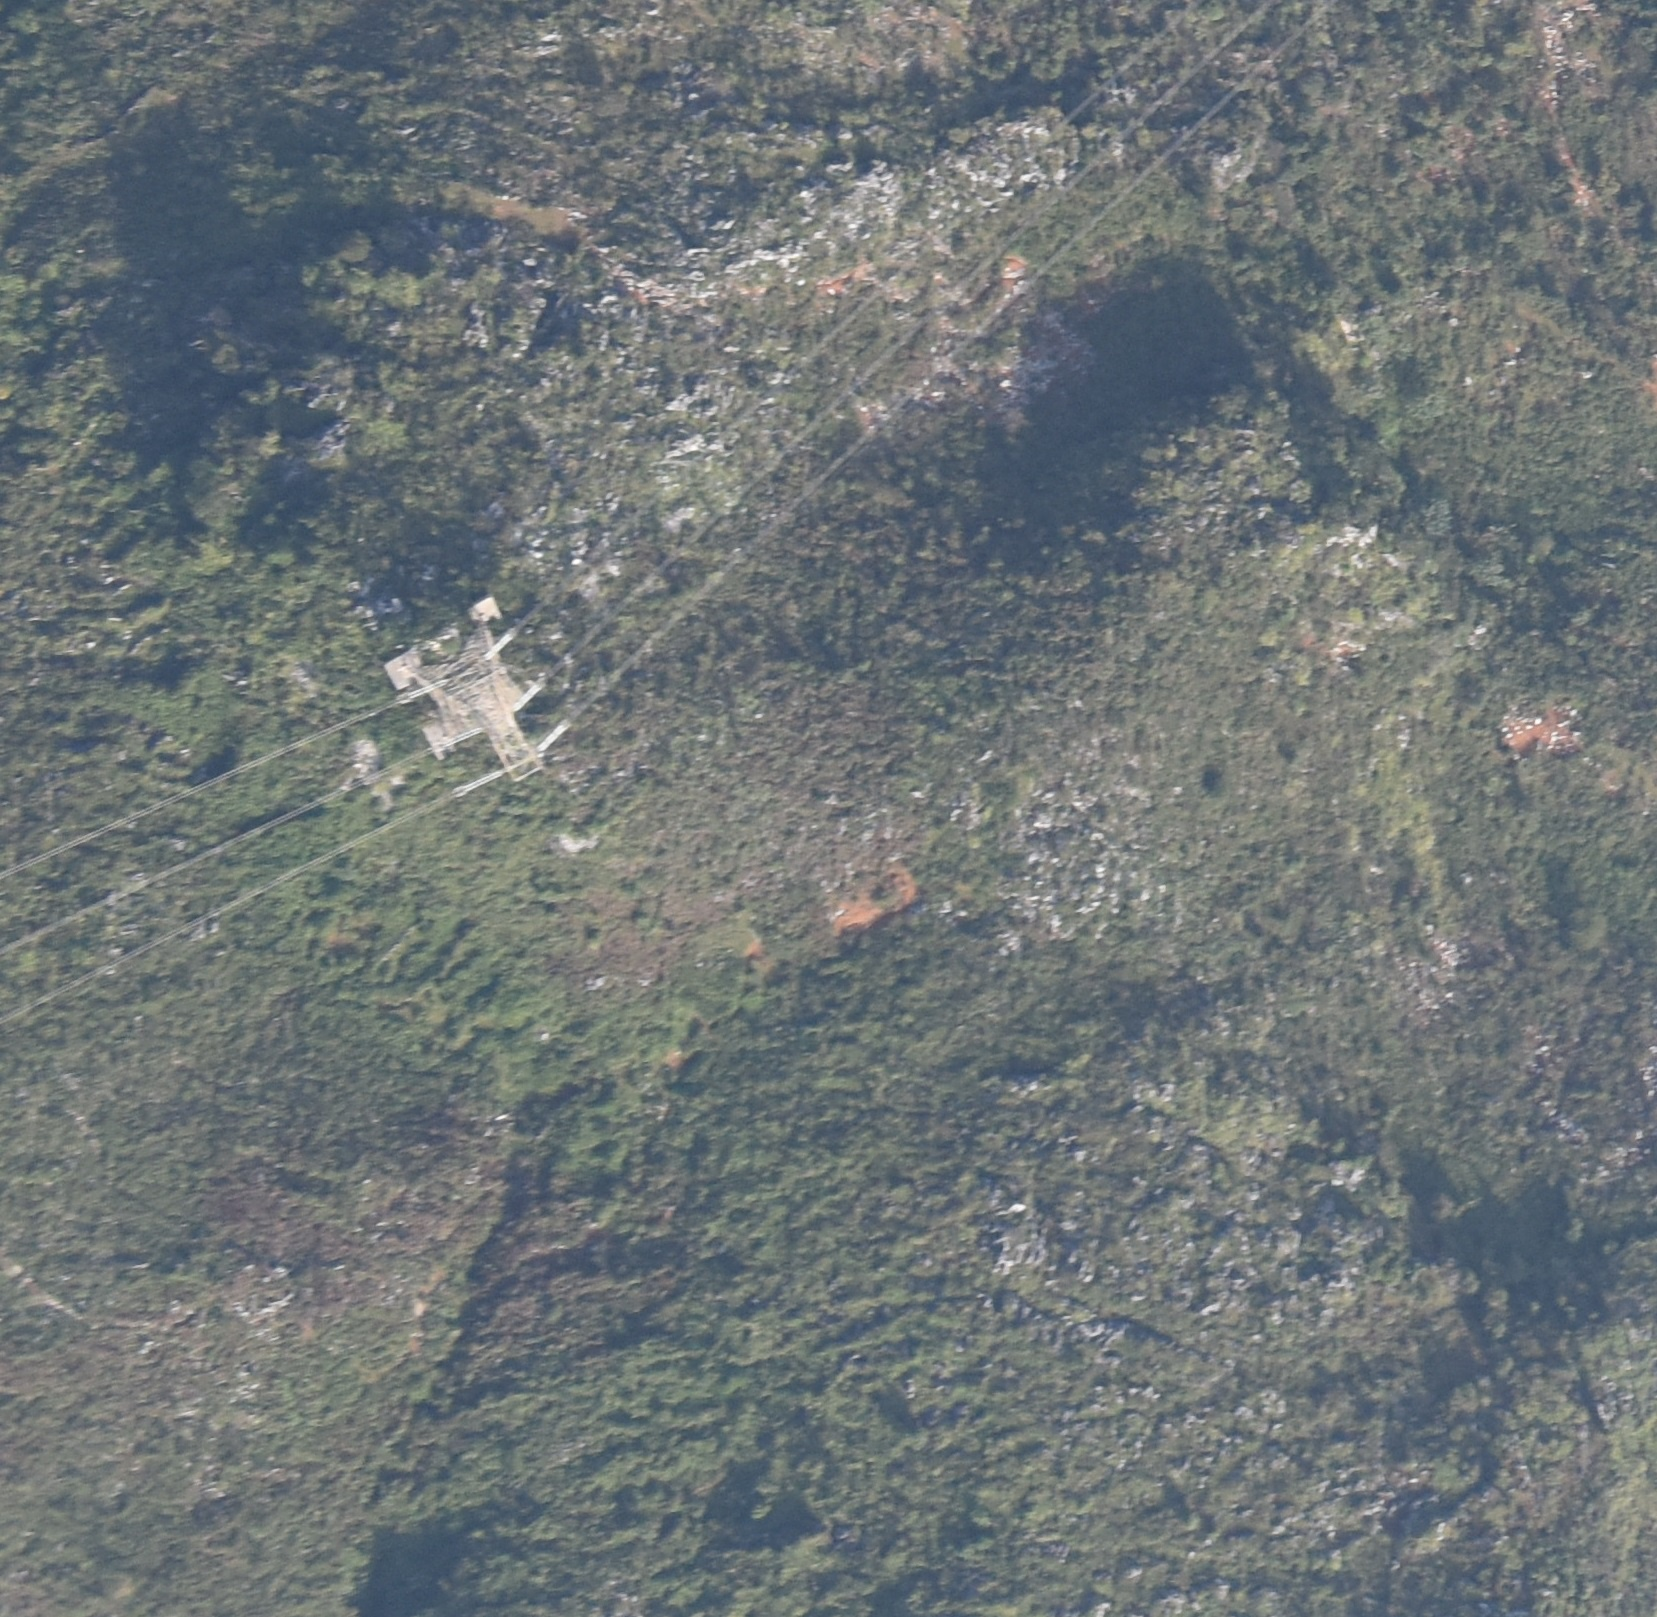cable-tower: (378, 589, 554, 808)
